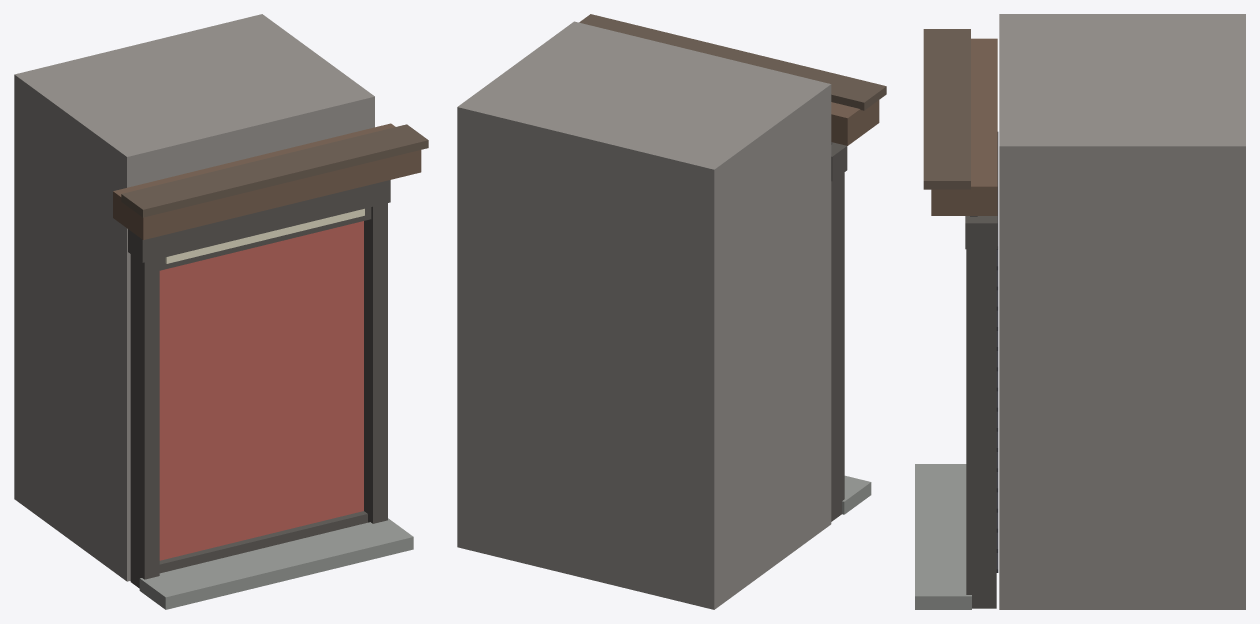
File: prop_shutter_shop_aka.glb
3 views of the same model, side by side, from view 1: azimuth 30°, elevation 25°; view 2: azimuth 150°, elevation 25°; view 3: azimuth 270°, elevation 25° (orthographic). The views are drawn at different scales.
Parts seen in each view (by area): view 1: shutter_shop_aka; view 2: shutter_shop_aka; view 3: shutter_shop_aka.
Part boxes in pixels (bbox=[...]): shutter_shop_aka: bbox=[14, 14, 428, 609]; shutter_shop_aka: bbox=[457, 14, 886, 609]; shutter_shop_aka: bbox=[915, 14, 1245, 609].
Size of the model in its own units: 3.8 by 5.4 by 3.49.
